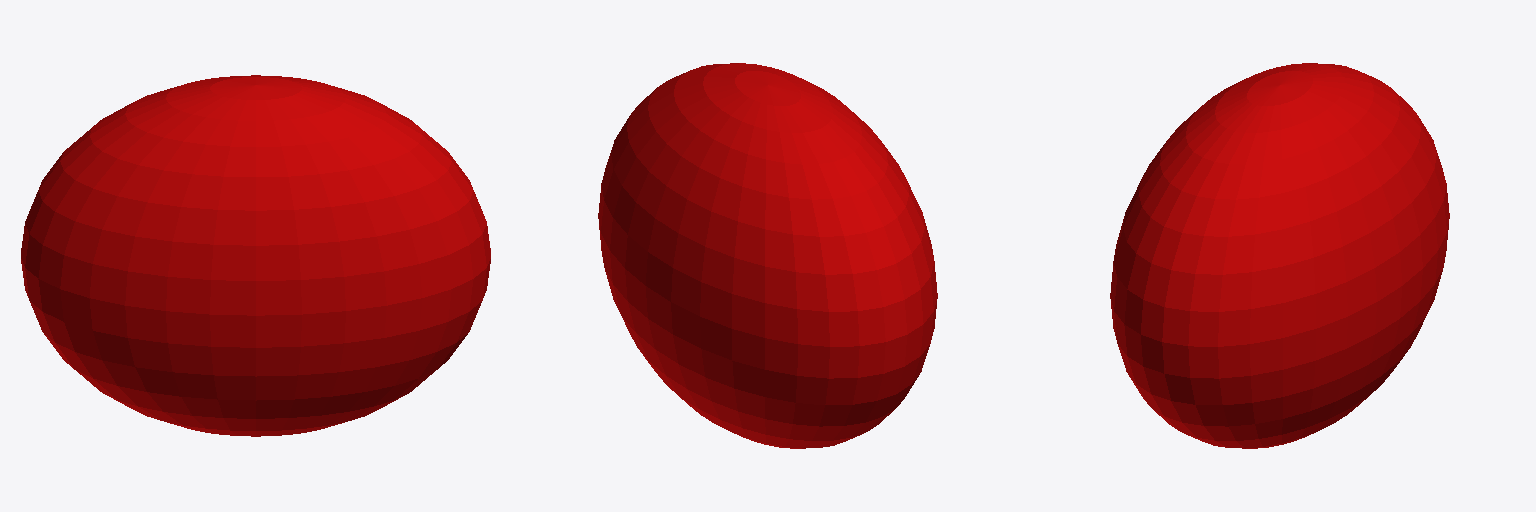
File: moya_TV_r.obj
The picture shows the model from 3 angles: view 1: azimuth 30°, elevation 25°; view 2: azimuth 150°, elevation 25°; view 3: azimuth 270°, elevation 25°; orthographic projection.
Parts seen in each view (by area): view 1: Sphere_Sphere.002; view 2: Sphere_Sphere.002; view 3: Sphere_Sphere.002.
Boxes of the visible parts, box(x1,y1,x2,y2) form: Sphere_Sphere.002: box(21, 75, 490, 436); Sphere_Sphere.002: box(598, 63, 937, 448); Sphere_Sphere.002: box(1110, 63, 1449, 448).
Size of the model in its own units: 0.9149 by 0.8 by 0.721.